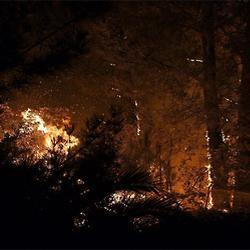fire: (39, 127, 81, 154)
